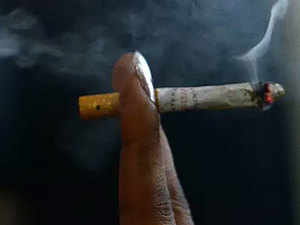cigarette: (75, 83, 289, 123)
